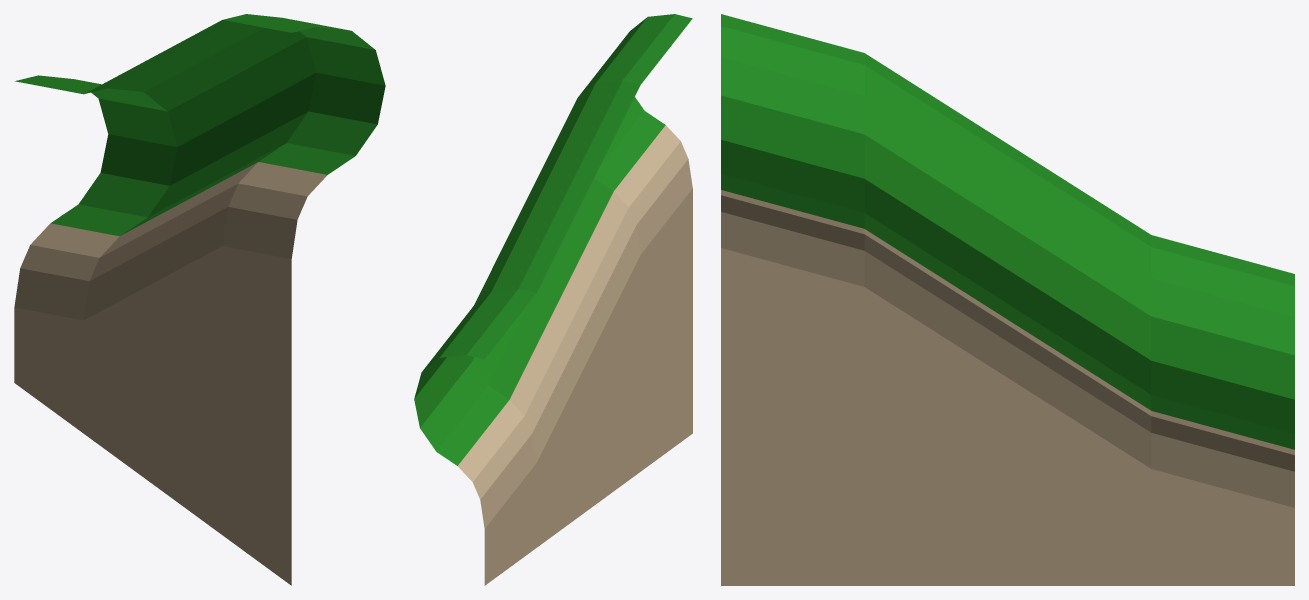
File: Escarpment_Terrain_Hill_Top.fbx
3 renders of one model, left to right at view 1: azimuth 30°, elevation 25°; view 2: azimuth 150°, elevation 25°; view 3: azimuth 270°, elevation 25°, orthographic. The views are drawn at different scales.
Visible parts, largest first — view 1: object1; view 2: object1; view 3: object1.
Boxes of the visible parts, x1,y1,x2,y2 form: object1: (14,14,385,585); object1: (414,14,692,585); object1: (721,14,1294,585).
Size of the model in its own units: 0.3909 by 2.2 by 2.
